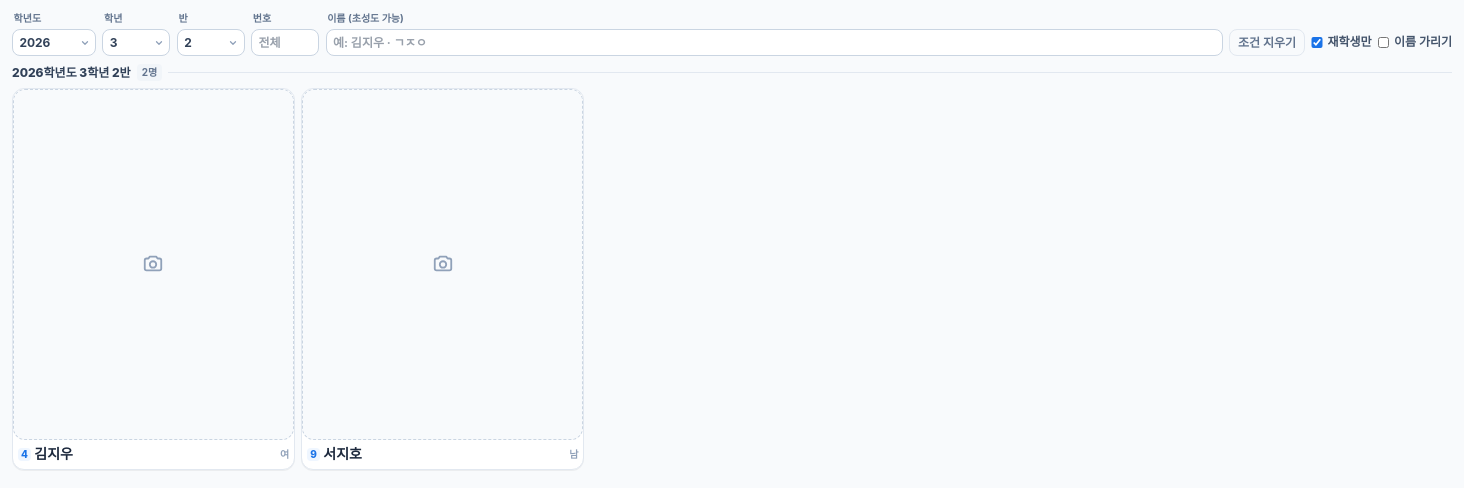
Test: 검색 탭 - 이름으로 찾기 › 맞는 학생이 없으면 그렇다고 말한다
Type "ㅎㅎㅎ" into the field with placeholder "예: 김지우 · ㄱㅈㅇ". click: (774, 43)
box: [326, 29, 1223, 56]
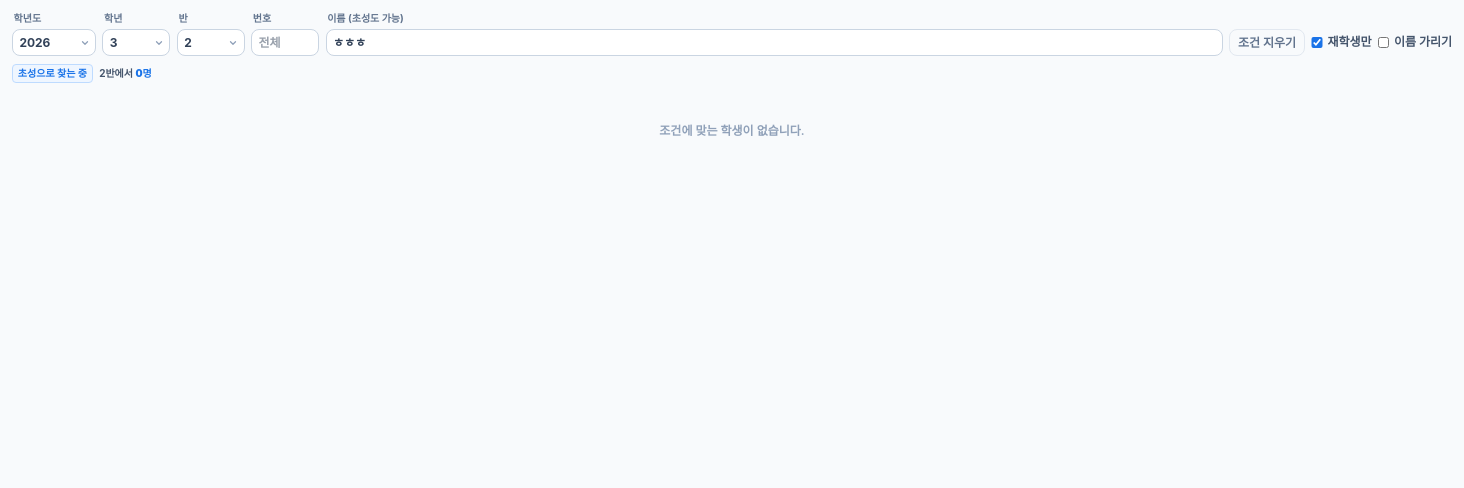
Check: the text "조건에 맞는 학생이 없습니다." is shown, box [659, 123, 805, 138]
